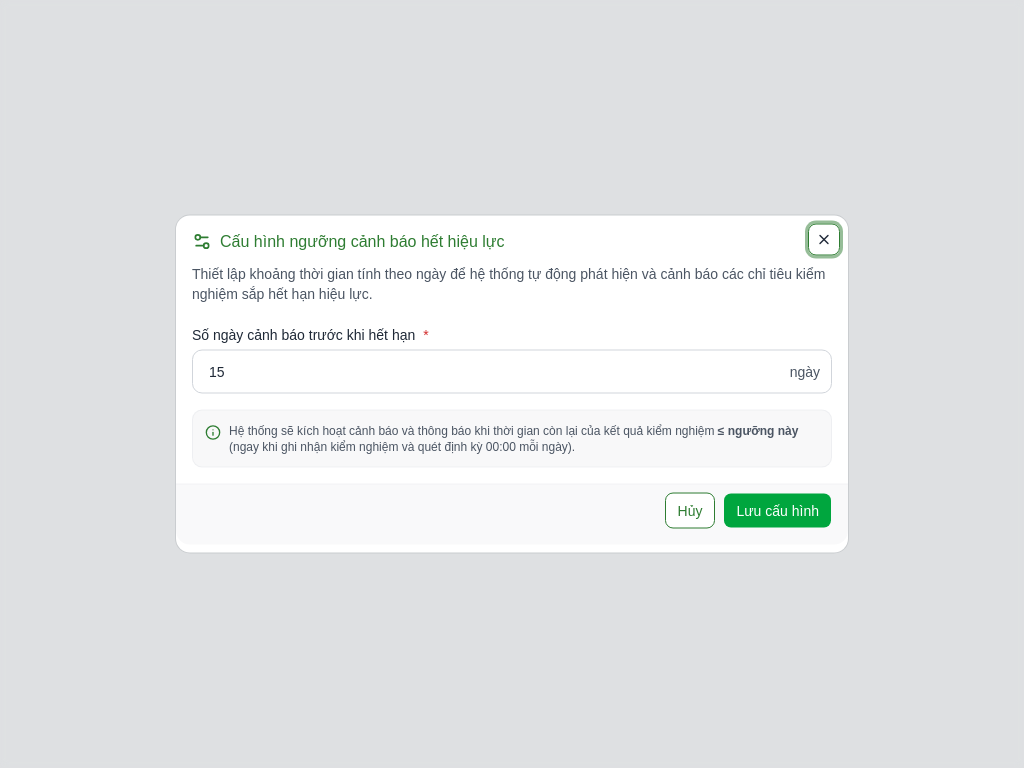
Test: InspectionExpiryThresholdDialog › báo lỗi client-side khi nhập số ngày ngoài khoảng 1-365
The image size is (1024, 768).
Replace the text in the number field labelled "Số ngày cảnh báo trước khi hết hạn *" with "400" at (512, 372), box [192,350,832,394]
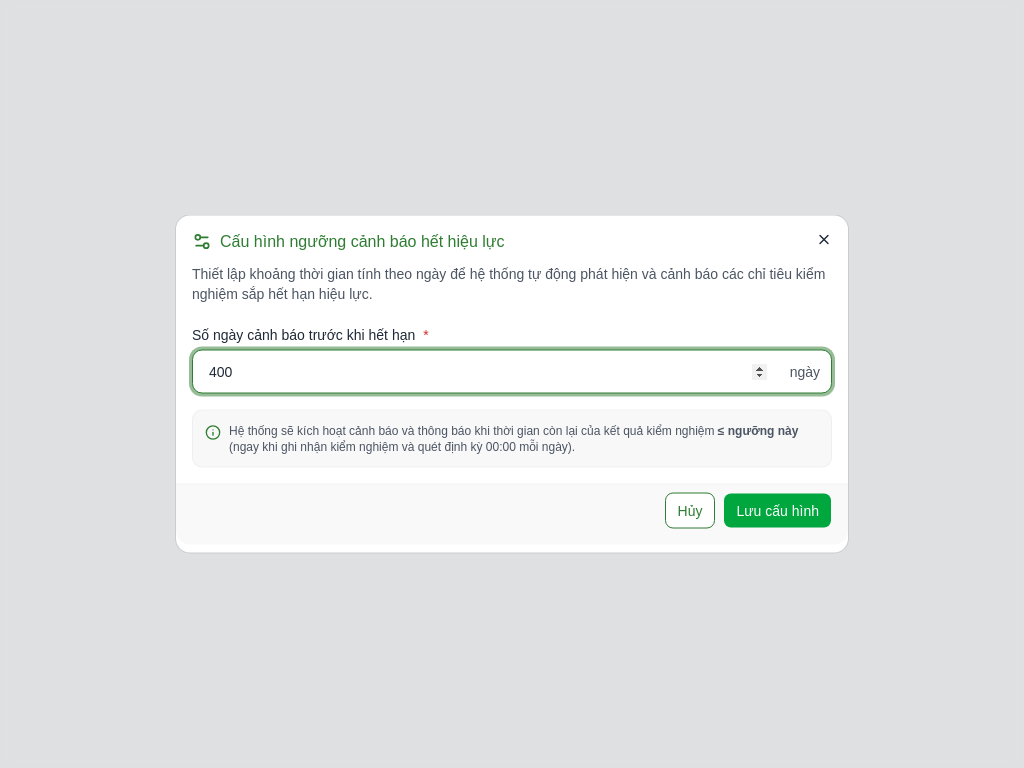
Click the button "Lưu cấu hình" at (778, 510), box [724,492,832,528]
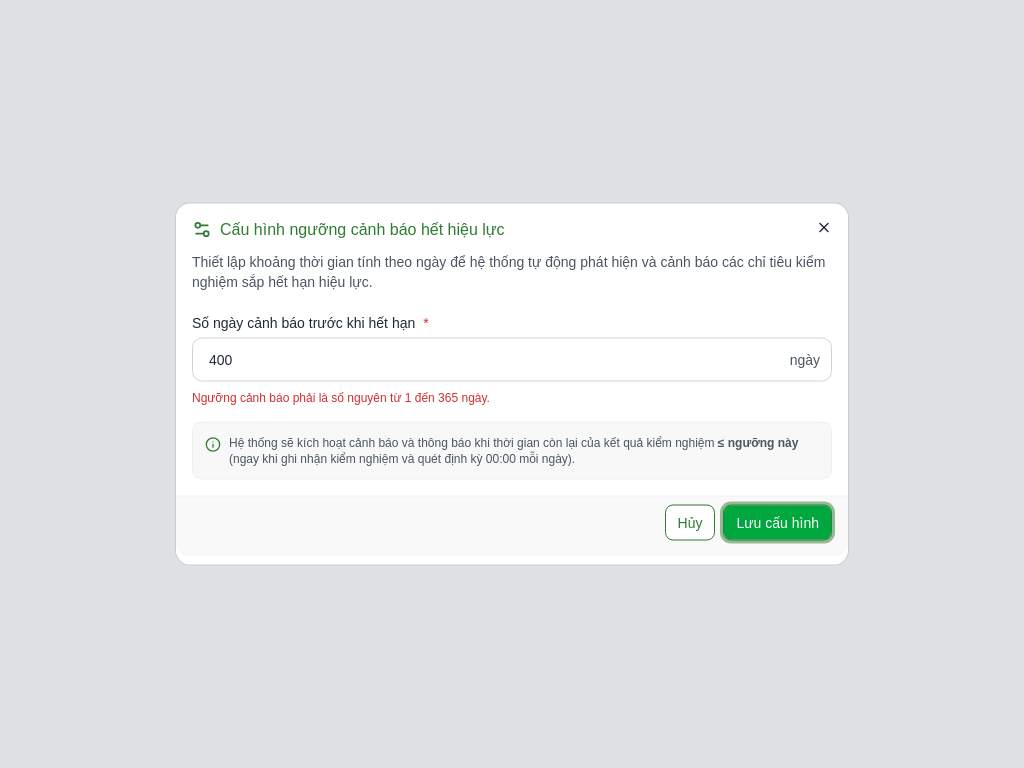
Result: the text "Ngưỡng cảnh báo phải là số nguyên từ 1 đến 365 ngày." is shown at [192,390,490,404]
